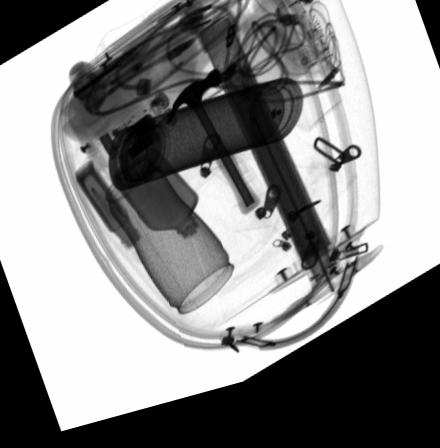Hammer: (165, 78, 260, 229)
